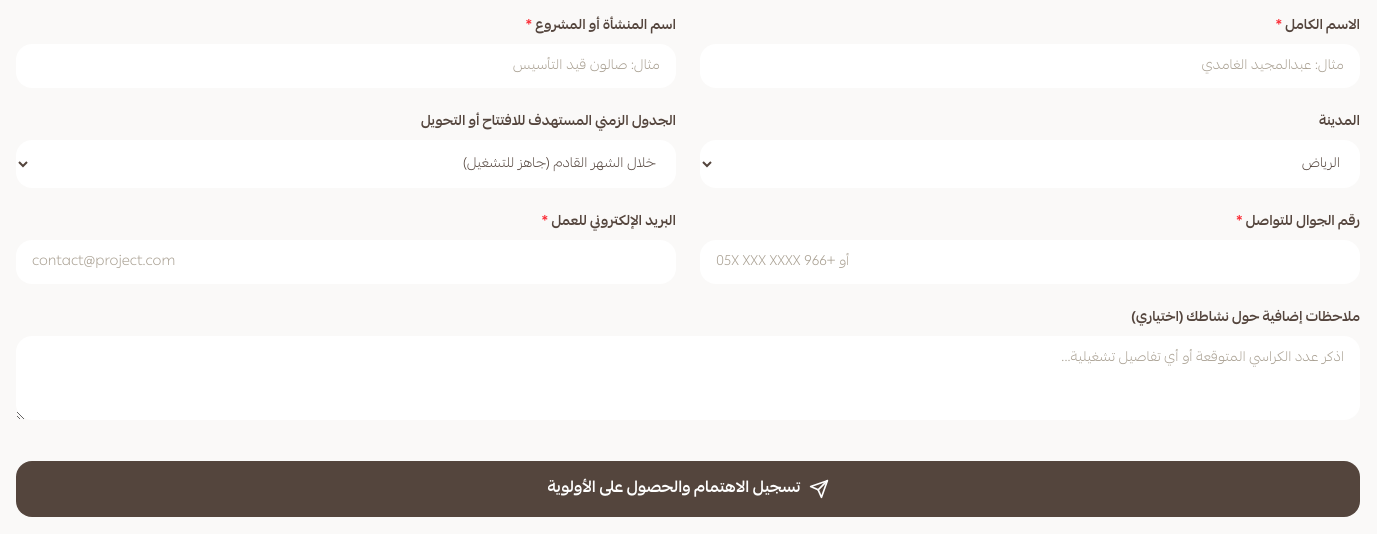
Test: RASHX Public Pages & Conversion Forms Suite › Register Interest Form (/register-interest) › handles unsupported registration gracefully showing official phone
The image size is (1377, 534).
In the field labelled "الاسم الكامل *": point(1030, 66) [700, 44, 1360, 88], type "عبدالله السالم"
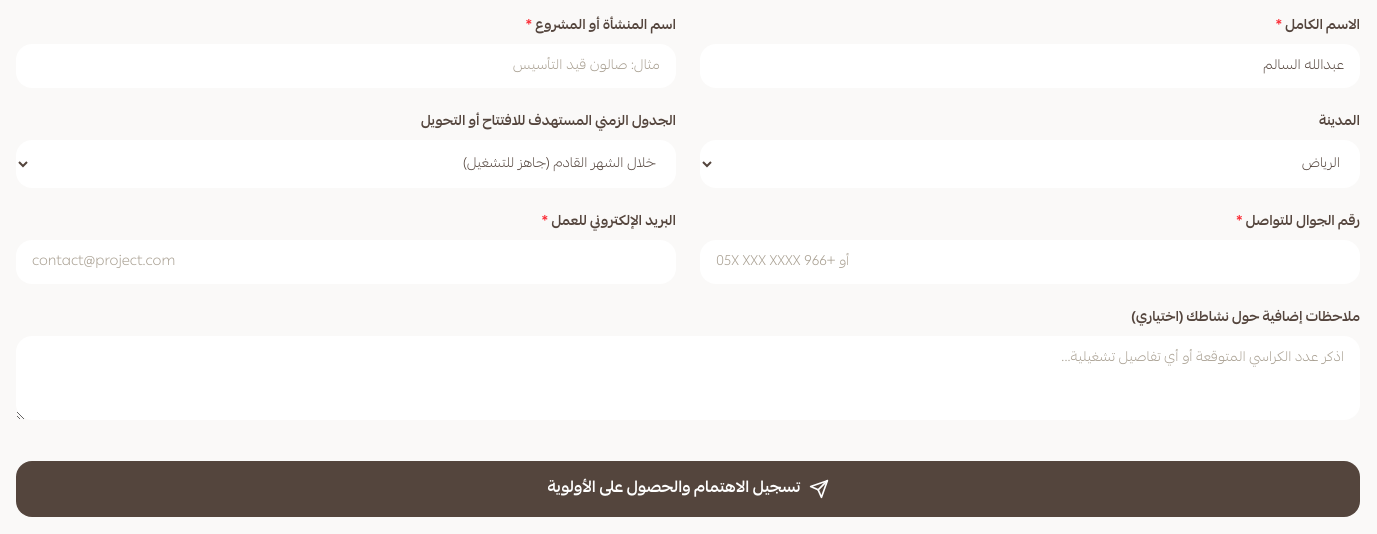
In the field labelled "اسم المنشأة أو المشروع *": point(346, 66) [16, 44, 676, 88], type "مشروع صالون جديد"
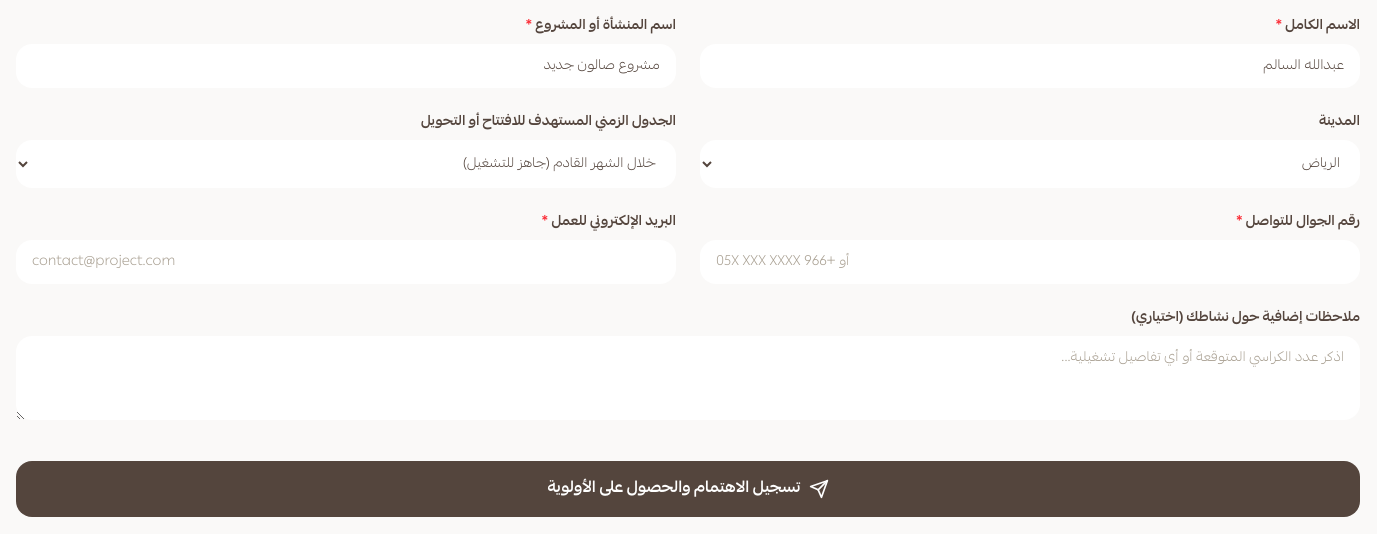
In the field labelled "رقم الجوال للتواصل *": point(1030, 262) [700, 240, 1360, 284], type "0548082945"
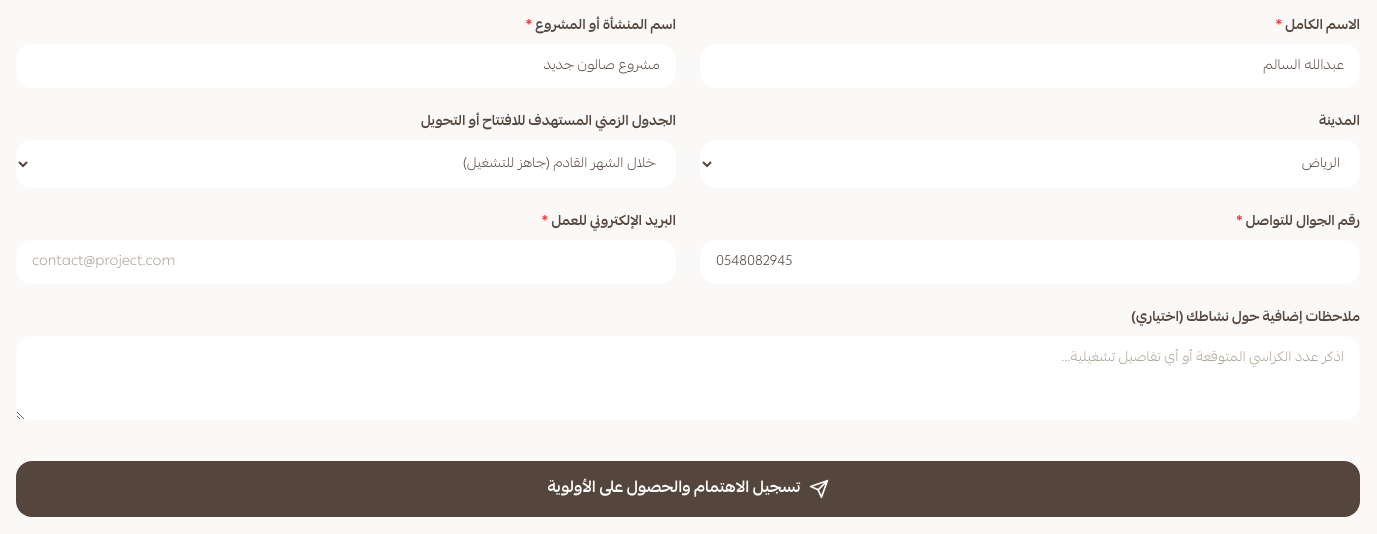
In the field labelled "البريد الإلكتروني للعمل *": point(346, 262) [16, 240, 676, 284], type "salem@salon.com"
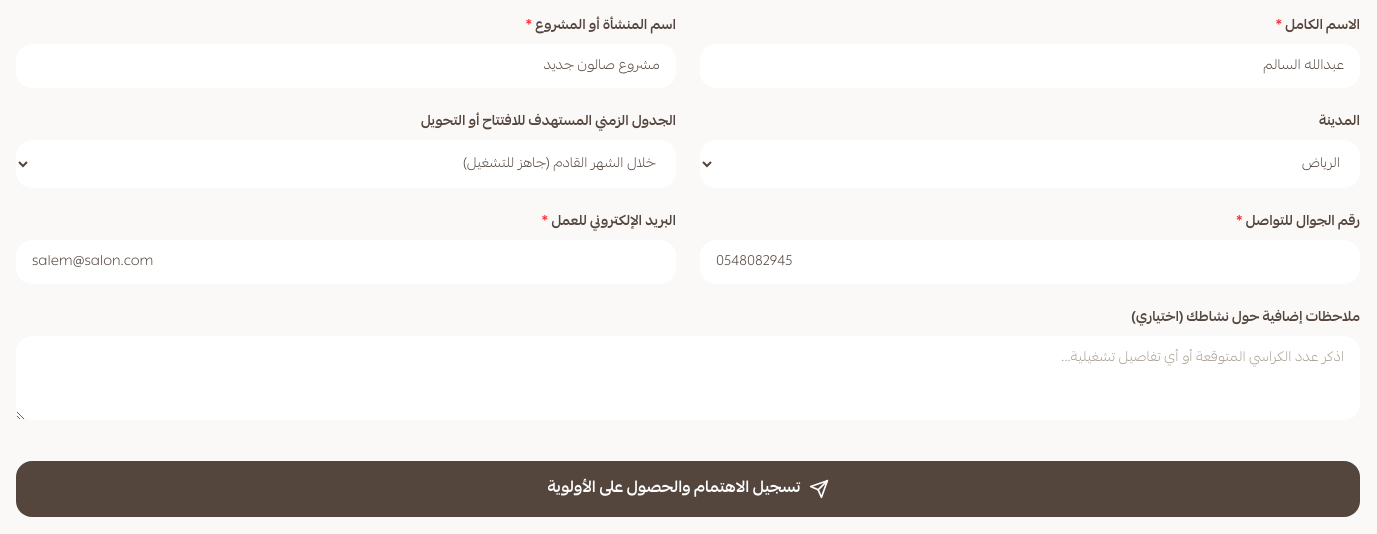
Click the button "تسجيل الاهتمام والحصول على الأولوية": point(688, 489) [16, 461, 1360, 517]
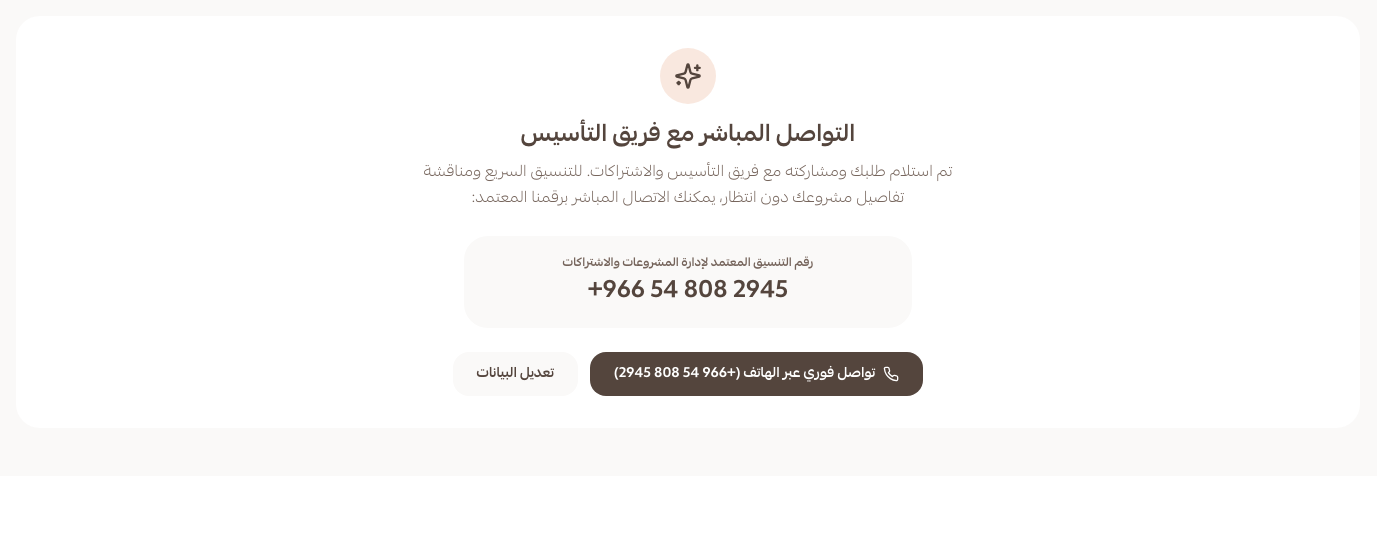
Now the element named "Direct Registration Coordination" is shown
Now the link "+966 54 808 2945" is shown, box [588, 276, 788, 308]
